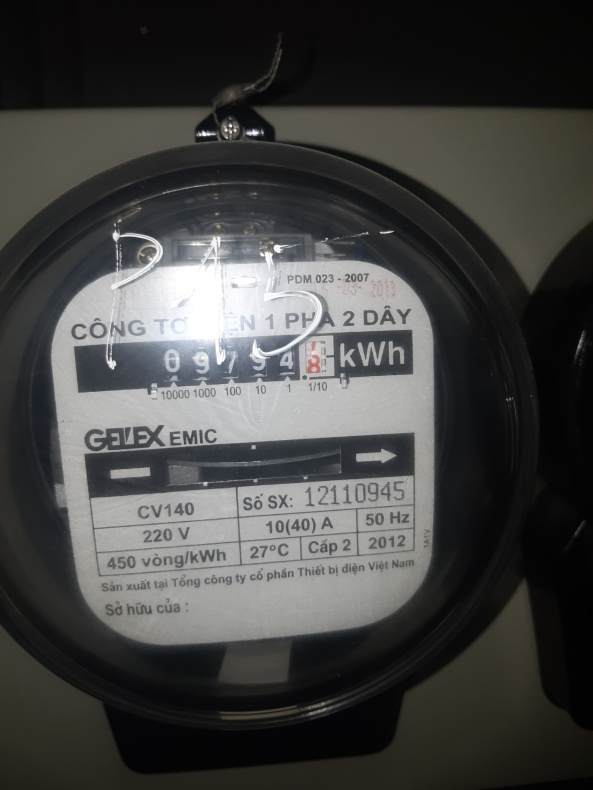counter: (67, 336, 418, 391)
electricity_meter: (7, 151, 540, 714)
